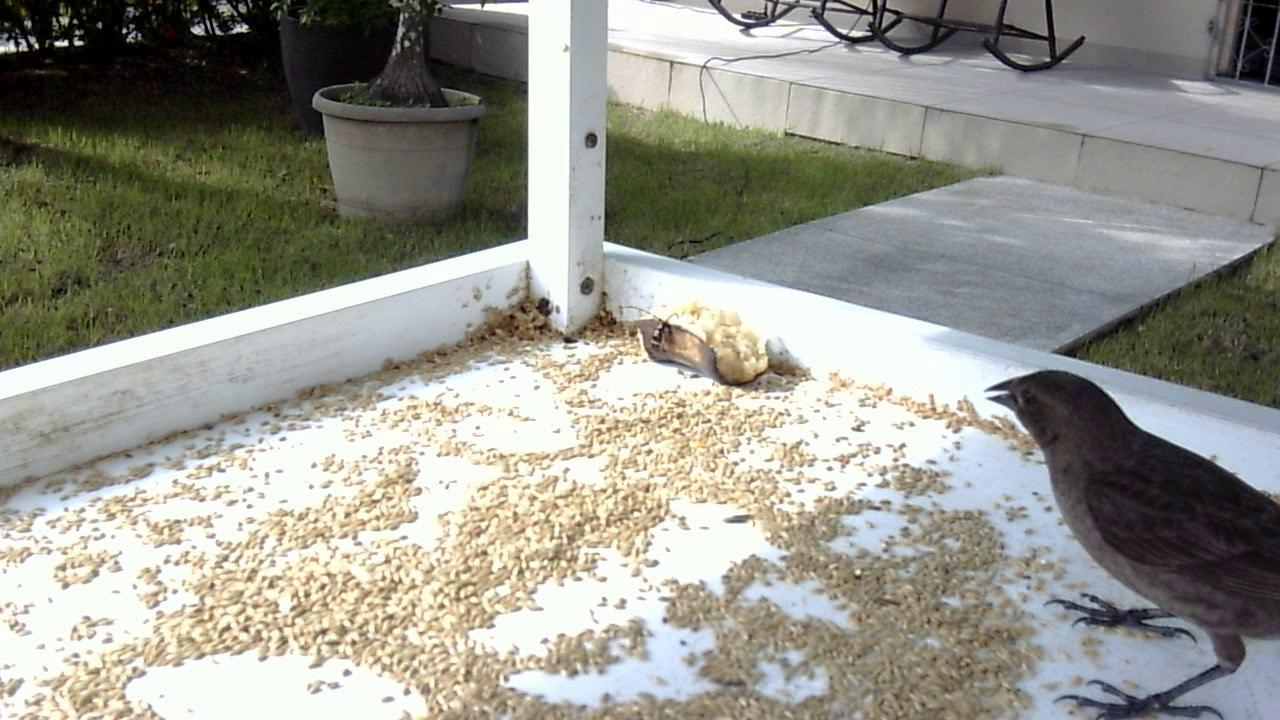chupim: (975, 370, 1278, 707)
